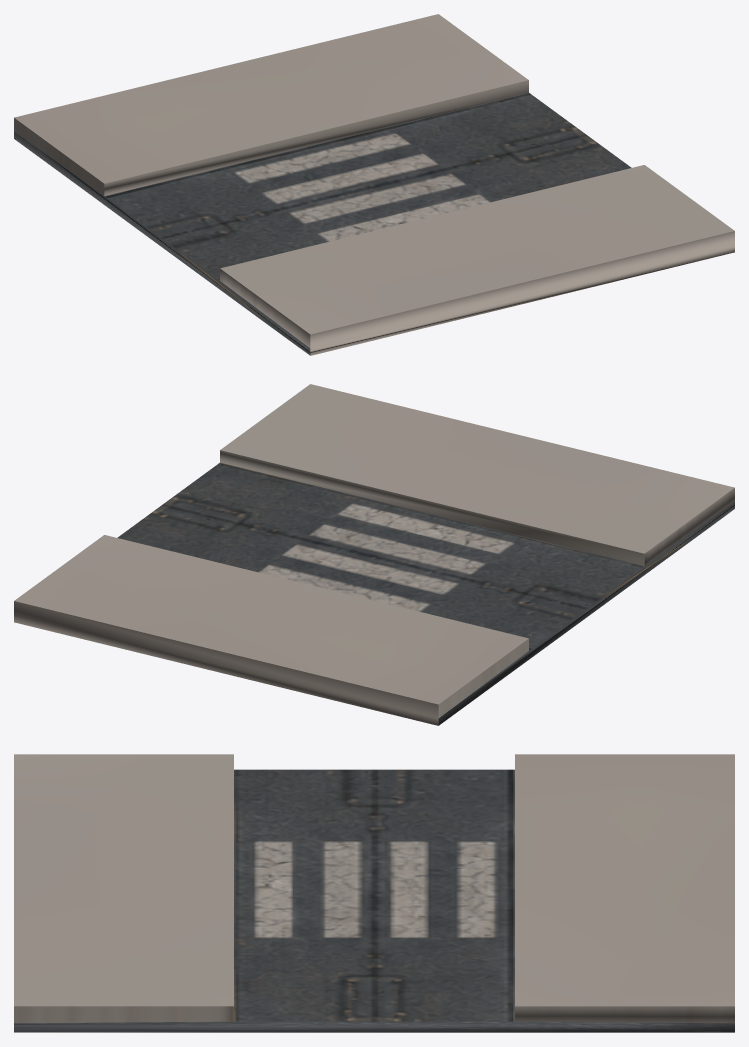
Rendered from yol yaya geçitli.fbx.
3 views of the same model, one above another, from view 1: azimuth 30°, elevation 25°; view 2: azimuth 150°, elevation 25°; view 3: azimuth 270°, elevation 25° (orthographic). The views are drawn at different scales.
Visible parts, largest first — view 1: Uçak.003; view 2: Uçak.003; view 3: Uçak.003.
Part boxes in pixels (x1,y1,x2,y2): Uçak.003: [14, 14, 734, 355]; Uçak.003: [14, 384, 734, 725]; Uçak.003: [14, 754, 734, 1032].
Bounding box in the file's own units: 1191 × 57.37 × 1440.
1 material, 1 textured.
